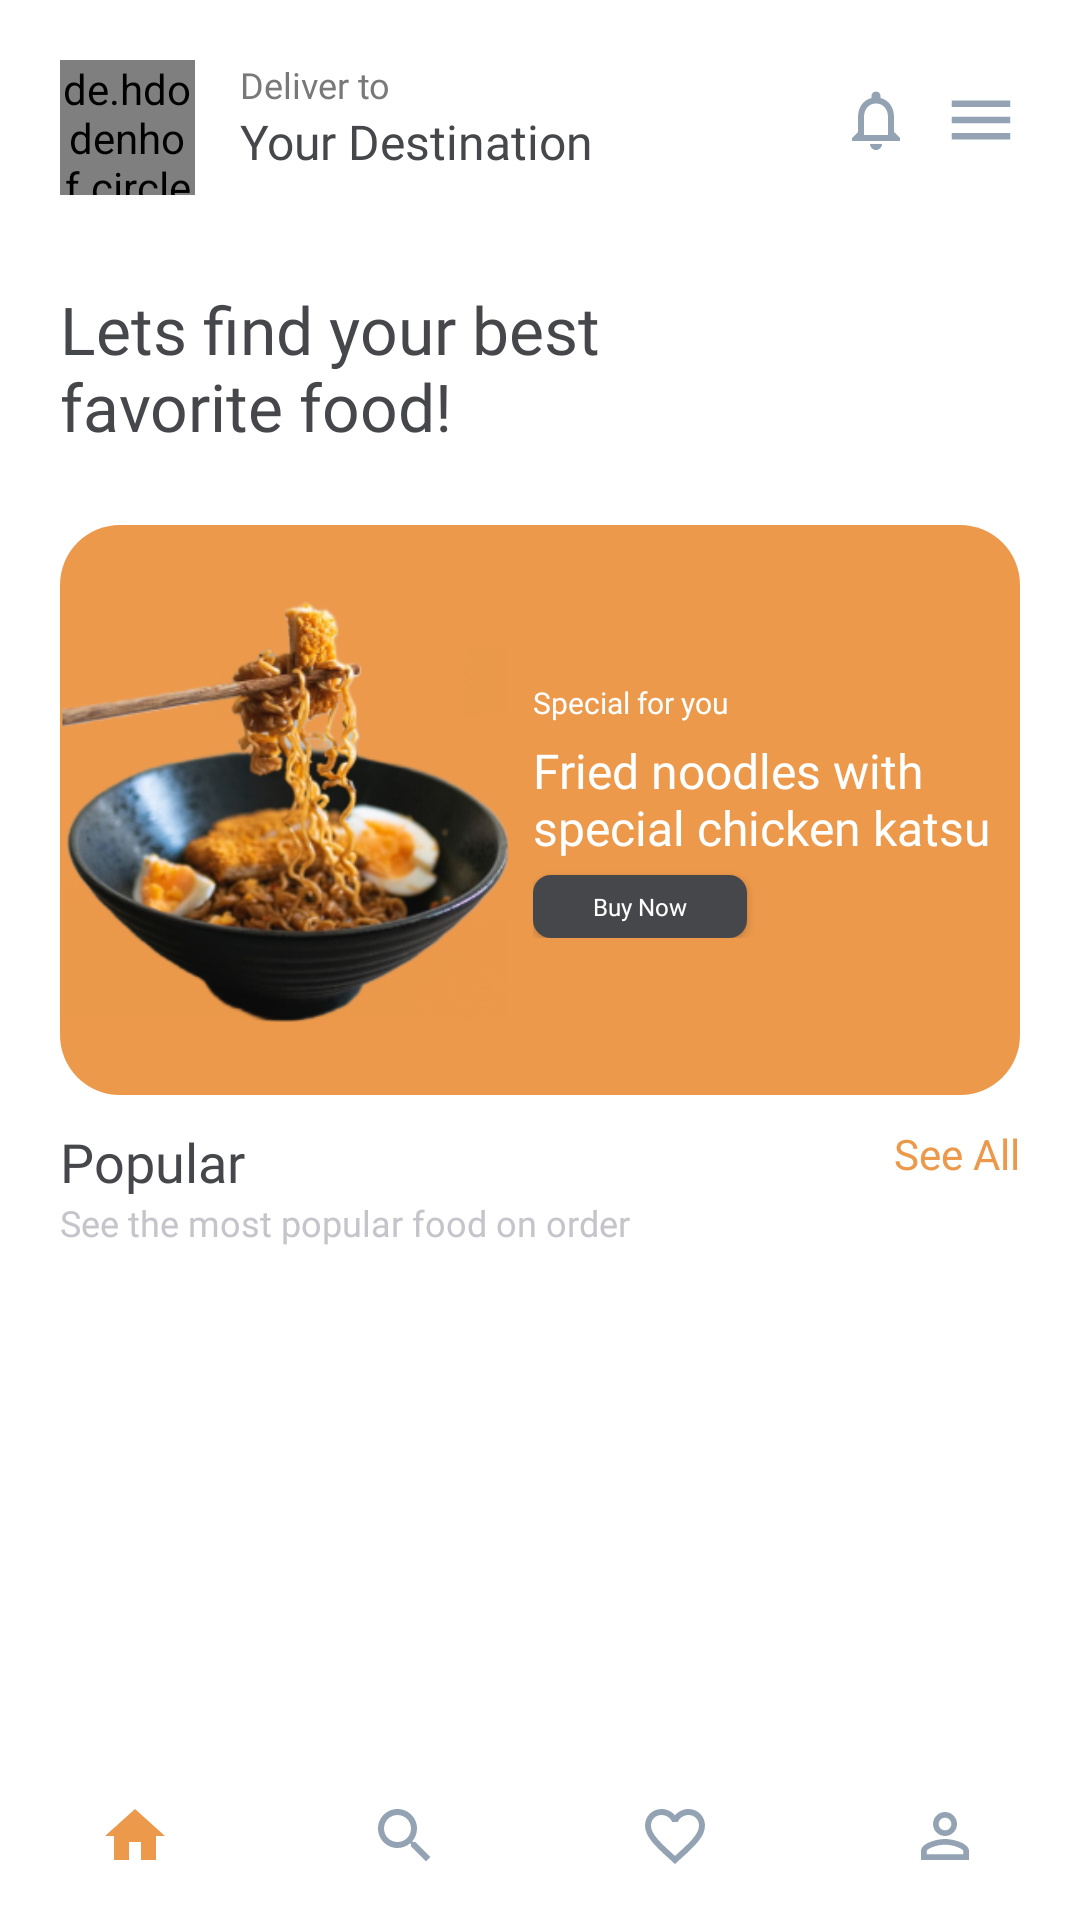

Screen size 1080x1920. Icon name, then its center in pixels as (x=x, y=y):
menu: (x=981, y=120)
notifications none: (x=876, y=120)
